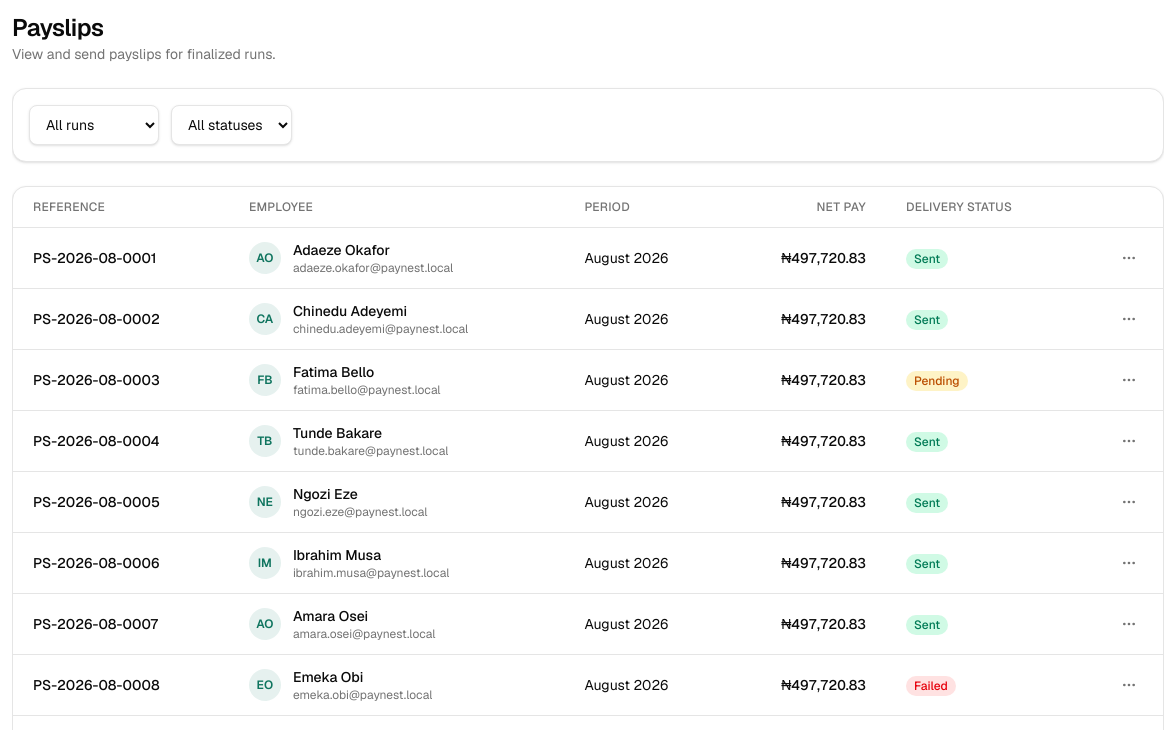
Test: payslips list › filters by delivery status
The image size is (1164, 730).
Select "Failed" in the dropdown named "Filter payslips by delivery status" at (232, 125), box [171,105,292,145]
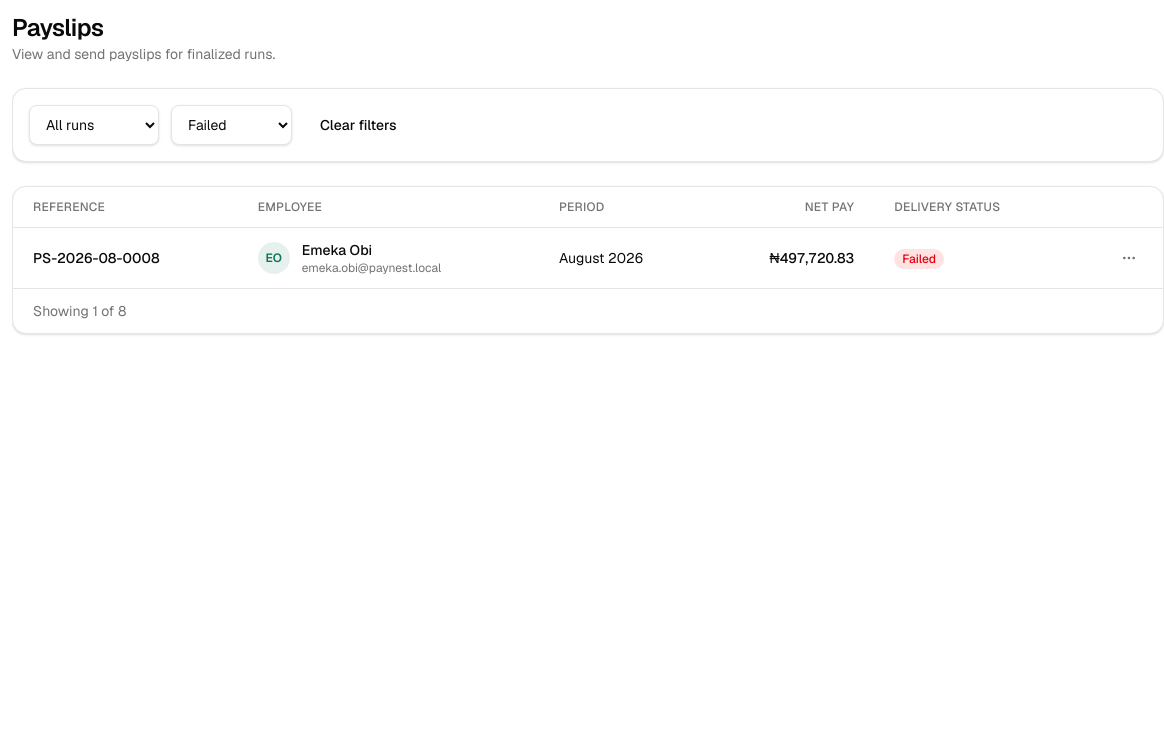
Expected: the text "Emeka Obi" is shown, [302,241,372,259]
Expected: the text "Adaeze Okafor" is gone
Expected: the text "Showing 1 of 8" is shown, [33,302,126,320]
